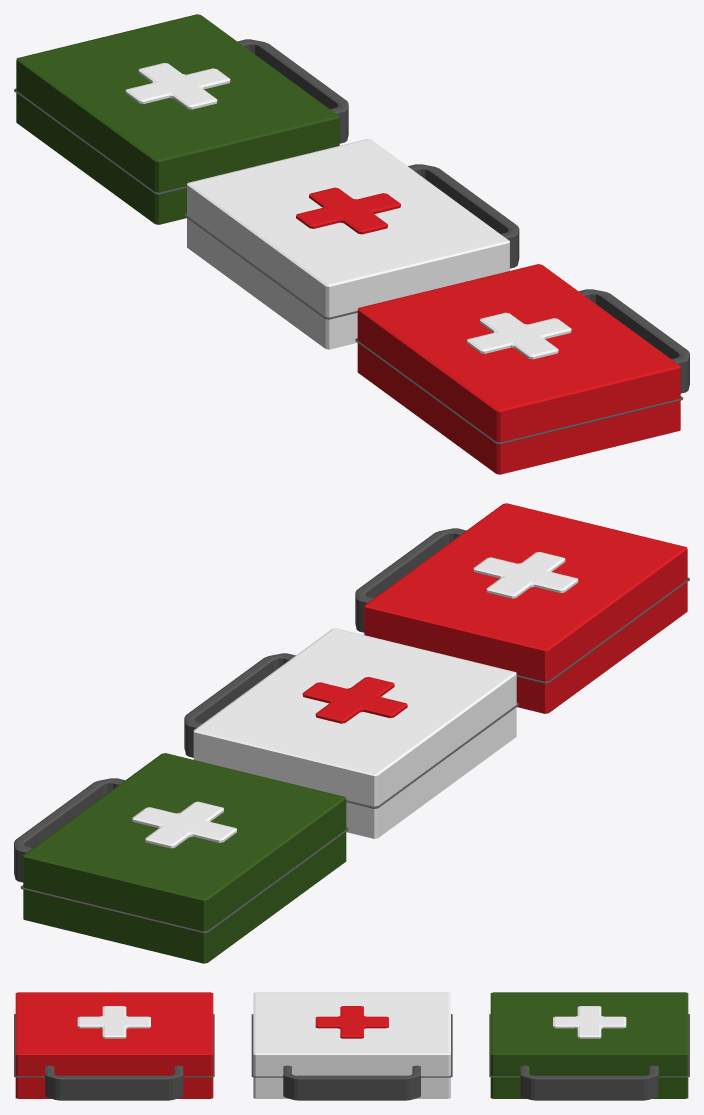
File: Medkits.fbx
The picture shows the model from 3 angles, top to bottom: view 1: azimuth 30°, elevation 25°; view 2: azimuth 150°, elevation 25°; view 3: azimuth 270°, elevation 25°; orthographic projection. The views are drawn at different scales.
Visible parts, largest first — view 1: Cube.008, Cube.007, Cube; view 2: Cube, Cube.008, Cube.007; view 3: Cube.007, Cube, Cube.008.
Part boxes in pixels (left/top/right/bottom): Cube.008: left=355, top=264, right=689, bottom=474; Cube.007: left=184, top=139, right=519, bottom=349; Cube: left=14, top=14, right=348, bottom=224; Cube: left=14, top=753, right=348, bottom=963; Cube.008: left=355, top=503, right=689, bottom=713; Cube.007: left=184, top=628, right=518, bottom=838; Cube.007: left=251, top=992, right=452, bottom=1100; Cube: left=489, top=992, right=689, bottom=1100; Cube.008: left=14, top=992, right=214, bottom=1100.
Bounding box in the file's own units: 364 × 110 × 1367.
